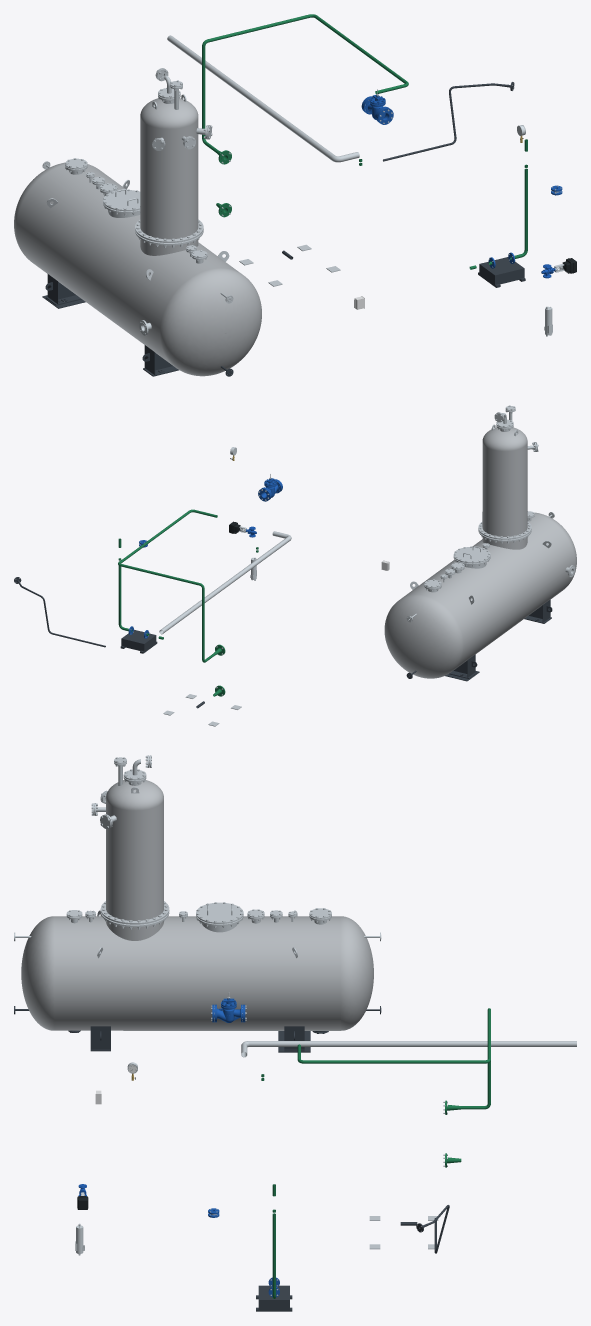
3 renders of one model, top to bottom at view 1: azimuth 30°, elevation 25°; view 2: azimuth 150°, elevation 25°; view 3: azimuth 270°, elevation 25°, orthographic. The views are drawn at different scales.
Visible parts, largest first — view 1: deaerator CAD solid 56, deaerator CAD solid 257, safety_vent_2 / steel, from_economizer / green, pump_branch_2 / dark, deaerator CAD solid 408, tds_without_fv / dark, pump_branch_2 / green; view 2: deaerator CAD solid 56, deaerator CAD solid 257, safety_vent_2 / steel, from_economizer / green, pump_branch_2 / dark, deaerator CAD solid 408; view 3: deaerator CAD solid 56, deaerator CAD solid 257, safety_vent_2 / steel, from_economizer / green, pump_branch_2 / dark, deaerator CAD solid 408.
Boxes of the visible parts, x1=… form: deaerator CAD solid 56: x1=14, y1=162, x2=261, y2=376; deaerator CAD solid 257: x1=140, y1=98, x2=198, y2=239; safety_vent_2 / steel: x1=167, y1=35, x2=359, y2=162; from_economizer / green: x1=202, y1=14, x2=408, y2=152; pump_branch_2 / dark: x1=478, y1=257, x2=525, y2=287; deaerator CAD solid 408: x1=103, y1=190, x2=140, y2=211; tds_without_fv / dark: x1=383, y1=82, x2=514, y2=161; pump_branch_2 / green: x1=469, y1=139, x2=527, y2=269; deaerator CAD solid 56: x1=384, y1=512, x2=576, y2=678; deaerator CAD solid 257: x1=482, y1=427, x2=527, y2=536; safety_vent_2 / steel: x1=159, y1=531, x2=291, y2=634; from_economizer / green: x1=118, y1=509, x2=215, y2=662; pump_branch_2 / dark: x1=120, y1=629, x2=157, y2=653; deaerator CAD solid 408: x1=453, y1=547, x2=490, y2=563; deaerator CAD solid 56: x1=21, y1=916, x2=373, y2=1030; deaerator CAD solid 257: x1=106, y1=780, x2=163, y2=920; safety_vent_2 / steel: x1=241, y1=1041, x2=576, y2=1057; from_economizer / green: x1=297, y1=1008, x2=490, y2=1109; pump_branch_2 / dark: x1=256, y1=1285, x2=292, y2=1311; deaerator CAD solid 408: x1=196, y1=902, x2=243, y2=923.
Bounding box in the file's own units: 7.8 × 4.82 × 6.97.
